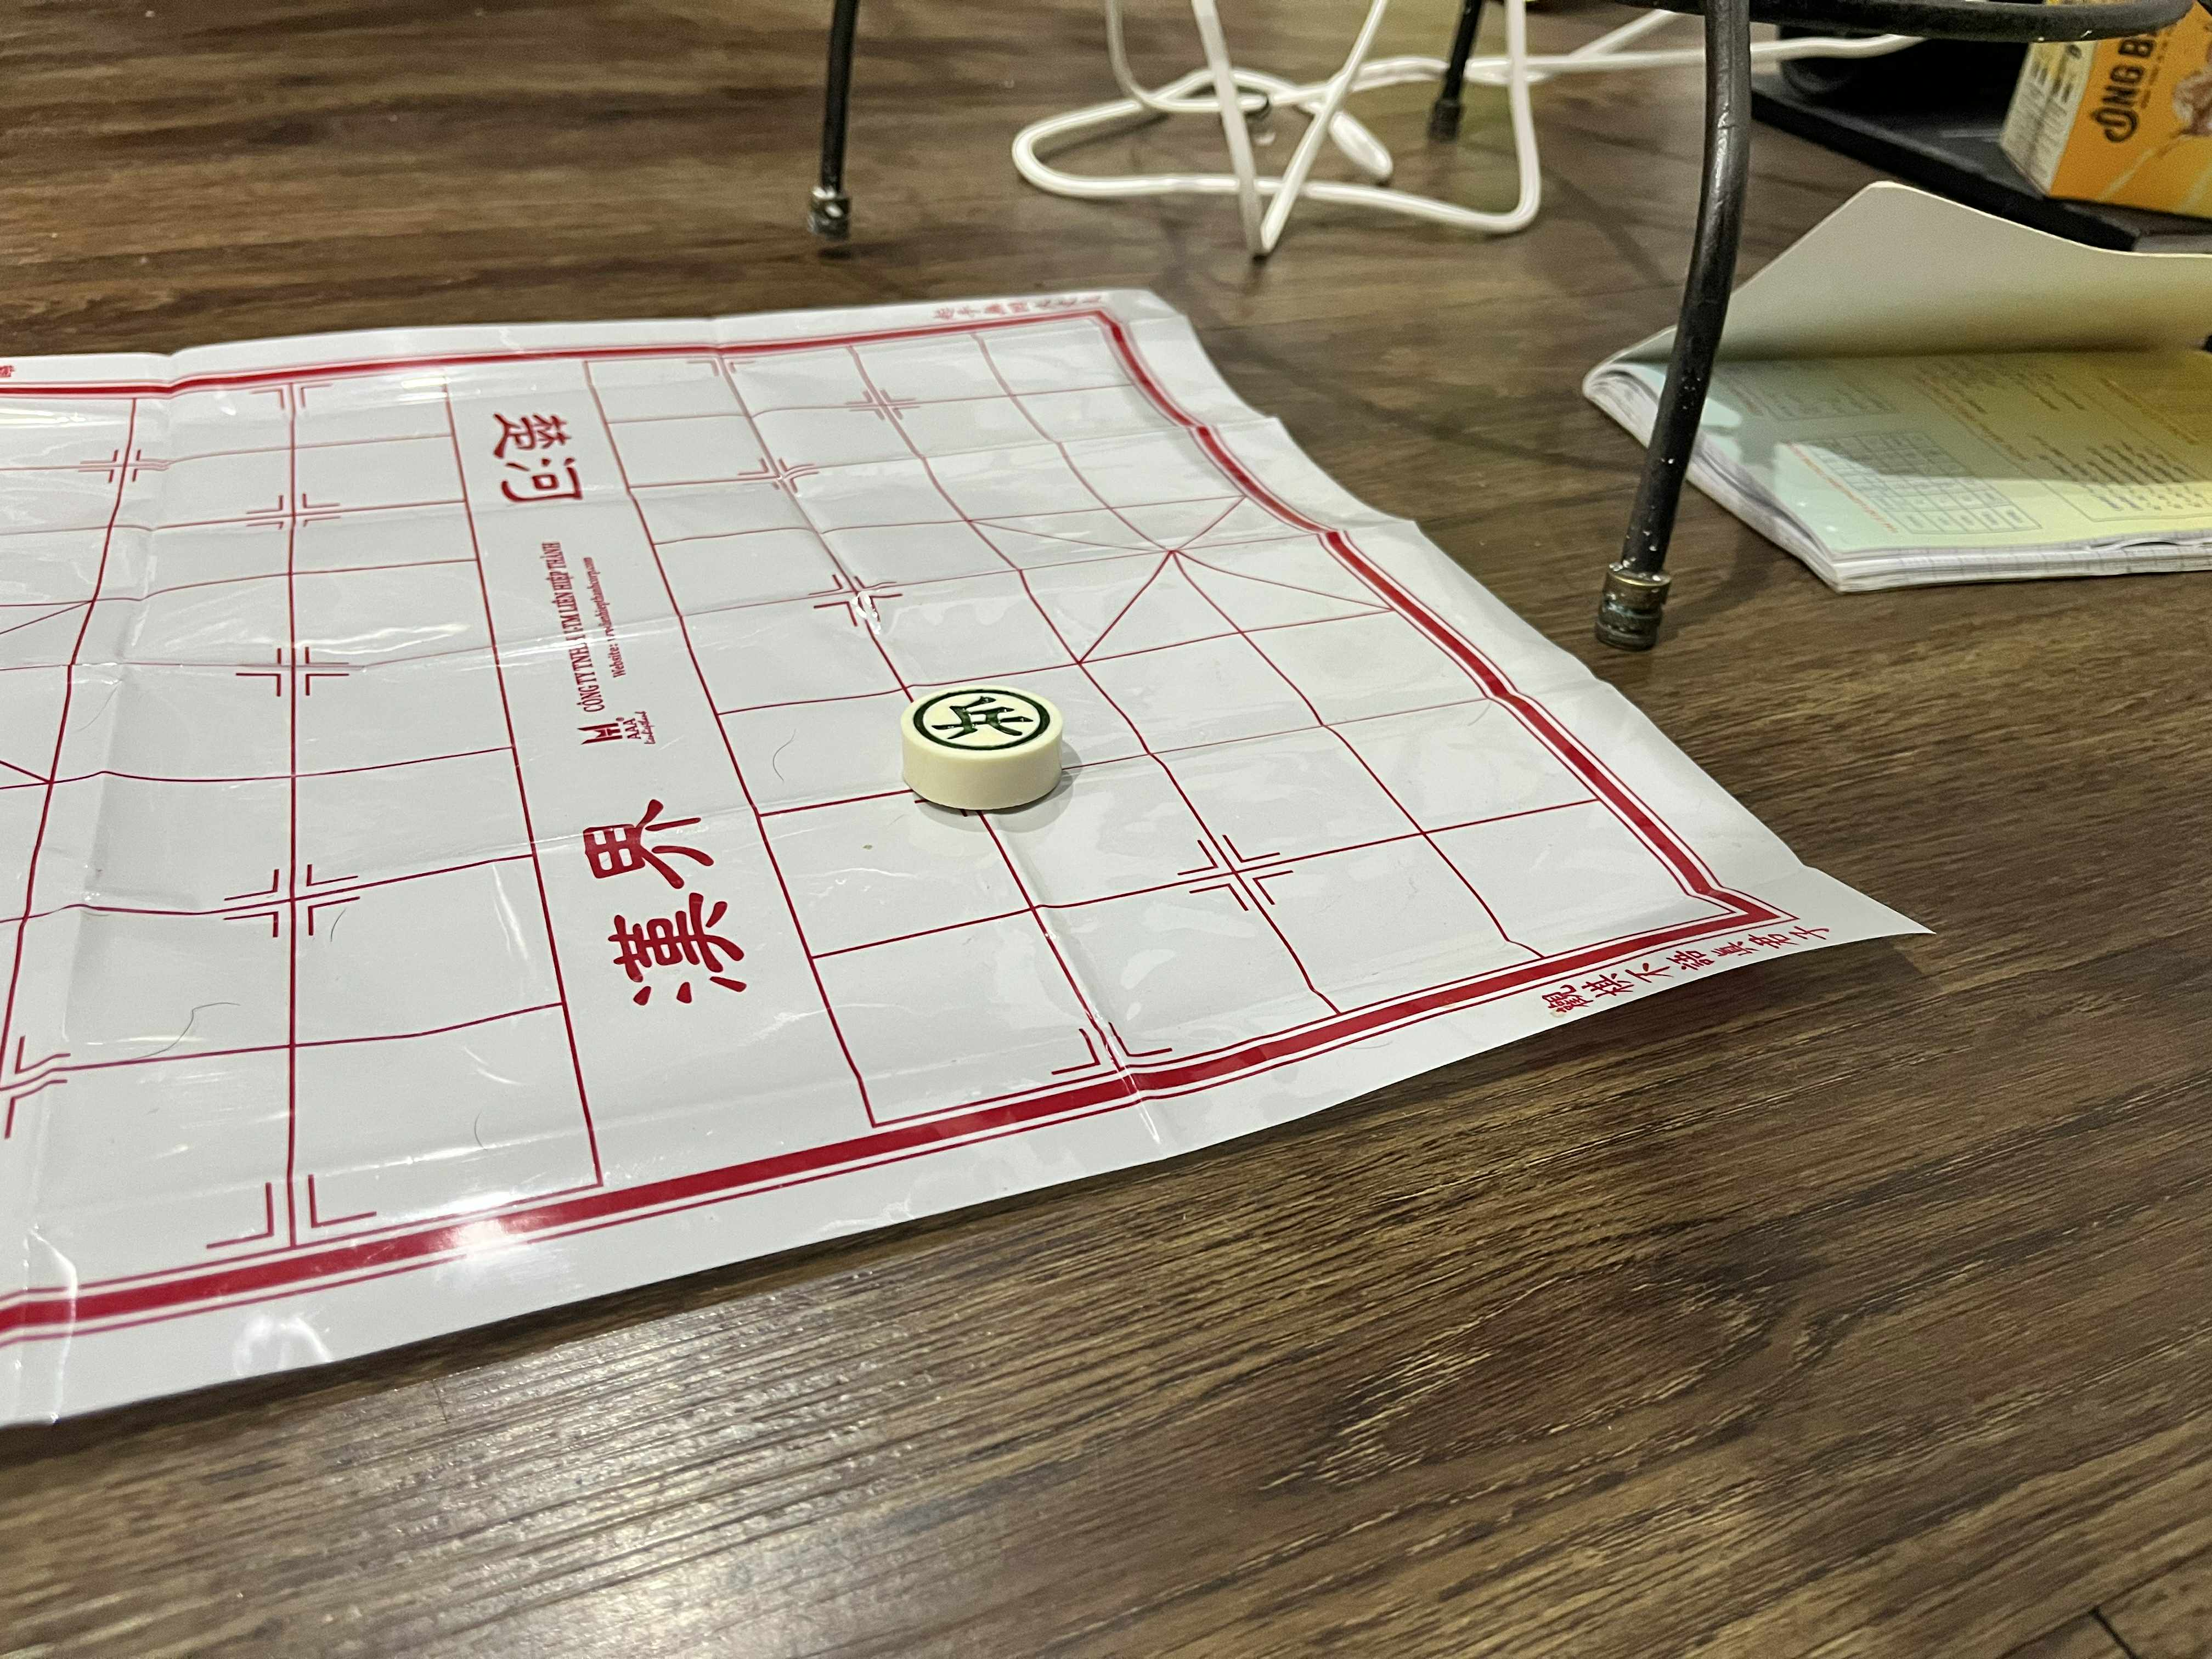black-soldier: (897, 685, 1064, 756)
